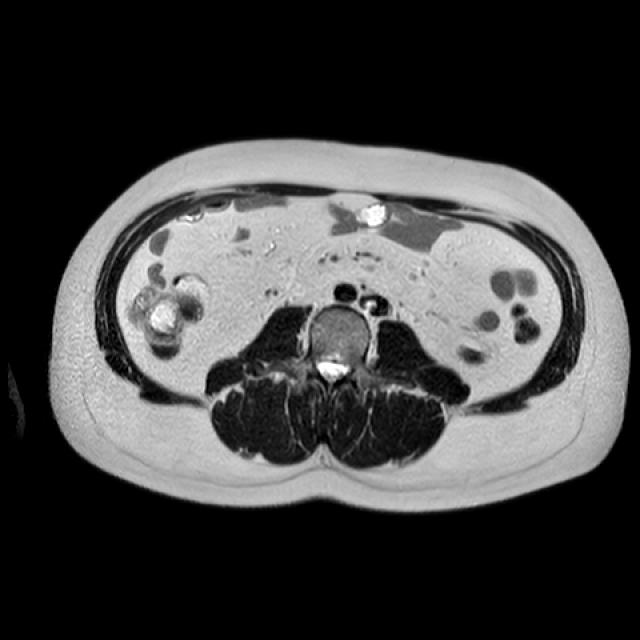sol: (460, 336, 490, 365)
